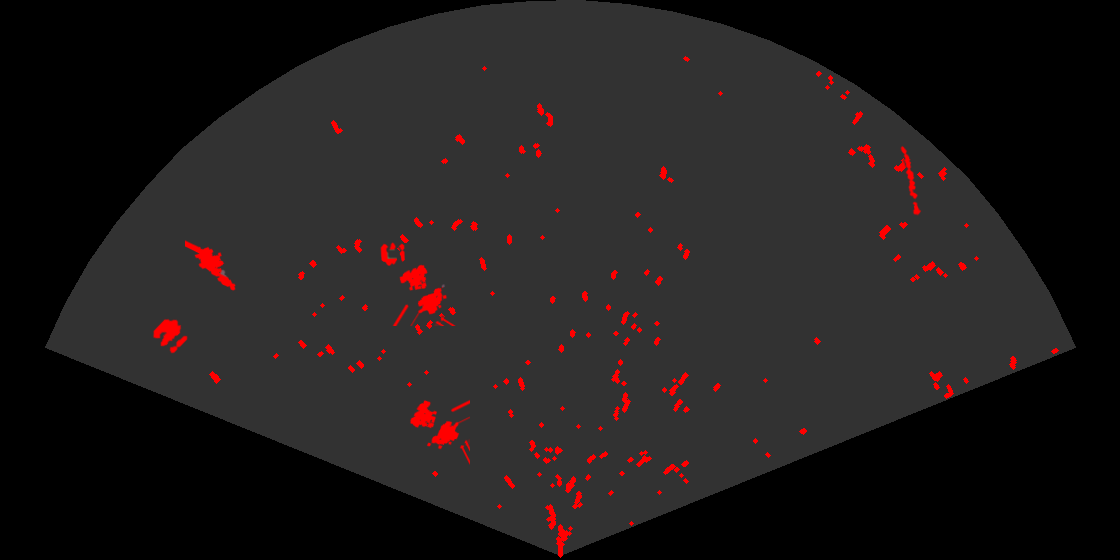ball: (151, 317, 189, 355), (379, 241, 407, 267)
cage: (408, 398, 470, 466), (391, 263, 457, 326)
chain: (899, 144, 923, 216)
frogman: (185, 239, 237, 292)
